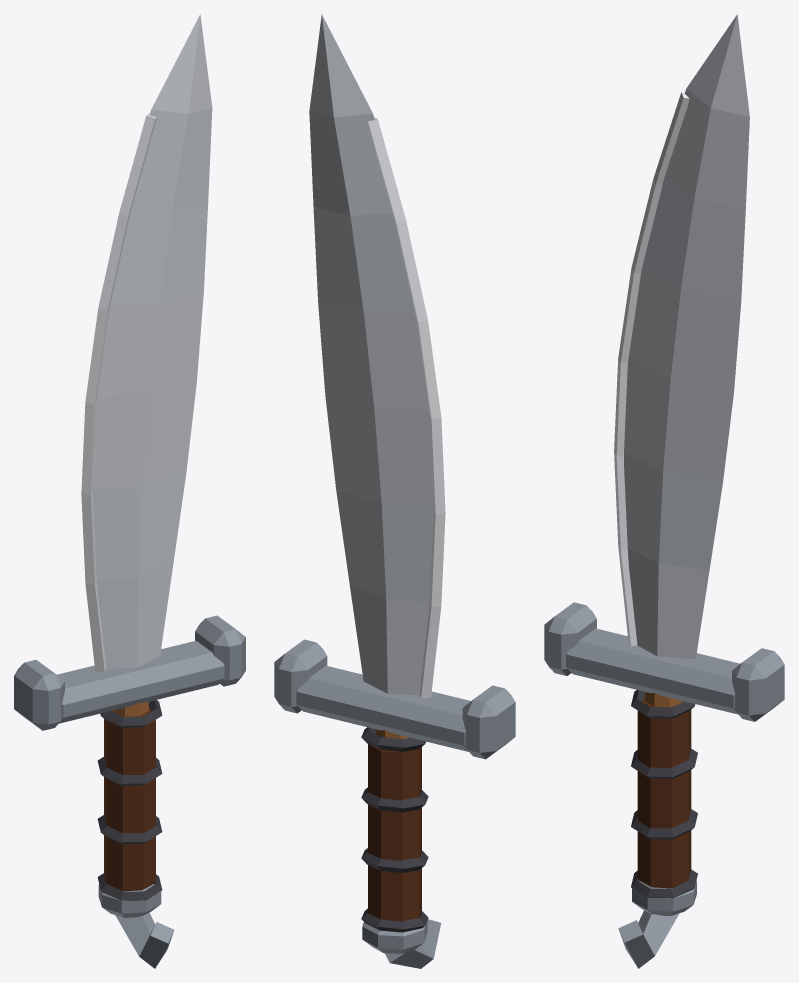
The model's file is IronScimitar.fbx.
3 views of the same model, side by side, from view 1: azimuth 30°, elevation 25°; view 2: azimuth 150°, elevation 25°; view 3: azimuth 330°, elevation 25° (orthographic). The views are drawn at different scales.
Parts seen in each view (by area): view 1: IronScimitar; view 2: IronScimitar; view 3: IronScimitar.
Boxes of the visible parts, x1,y1,x2,y2 form: IronScimitar: (14, 14, 245, 968); IronScimitar: (274, 14, 515, 968); IronScimitar: (544, 14, 784, 968).
Size of the model in its own units: 1.06 by 4.37 by 0.4747.
Materials: 1 (1 with a texture image).
